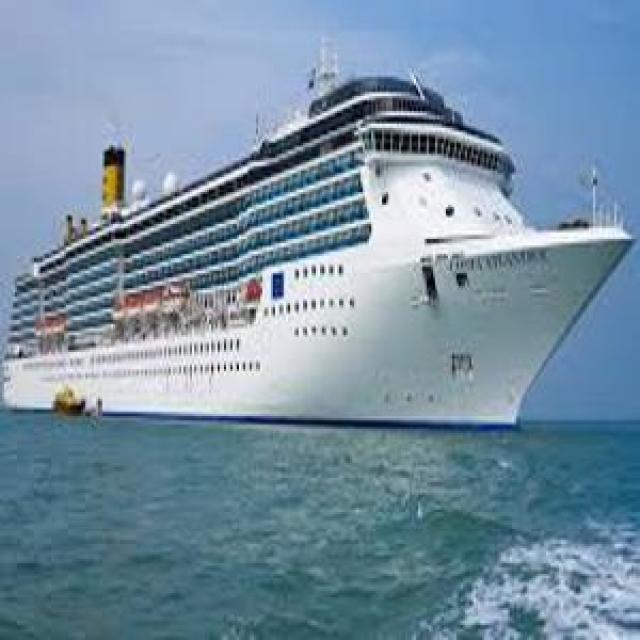houseboat: (46, 378, 104, 419)
passenger ship: (7, 53, 638, 428)
